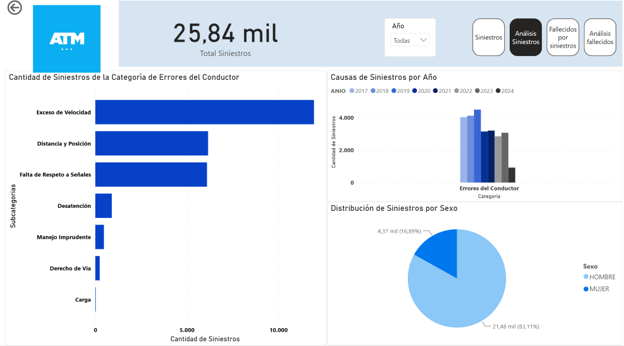

This screenshot's page, from the dashboard's own definition file:
{"tool":"powerbi","page":{"name":"Análisis Siniestros","canvas":[1280,720],"ordinal":1},"visuals":[{"type":"clusteredColumnChart","title":"Causas de Siniestros por Año","fields":{"Category":["CausasAccidentes.Categoría"],"Series":["Data.ANIO"],"Y":["CountNonNull(Data.ANIO)"]},"box":[667.2,150.3,613.1,272],"z":0},{"type":"barChart","title":"Cantidad de Siniestros de la Categorìa de Errores del Conductor","fields":{"Y":["CountNonNull(Data.ANIO)"],"Category":["CausasAccidentes.Subcategoría"]},"box":[0,150.3,667.2,569.5],"z":1000},{"type":"actionButton","box":[0,0,100,40],"z":2000},{"type":"shape","box":[235.7,5.5,1044.3,137.2],"z":3000},{"type":"pageNavigator","box":[968.5,42.8,299.6,78.3],"z":4000},{"type":"pieChart","fields":{"Category":["Data.SEXO"],"Y":["CountNonNull(Data.SEXO)"]},"box":[667.2,422.3,613.1,297.5],"z":5000},{"type":"card","fields":{"Values":["CountNonNull(Data.ANIO)"]},"box":[297.5,7.5,318.6,136.7],"z":6000},{"type":"slicer","fields":{"Values":["Data.ANIO"]},"box":[785.9,42.1,106.7,79.6],"z":7000},{"type":"image","box":[10,10,236,150],"z":8000}]}

Visuals, with their boxes in screenshot pixels (x1, y1, x2, y2), scaled from the page's 1280x720 canvas onto the 624x346 screenshot:
"Causas de Siniestros por Año" clusteredColumnChart: BBox(325, 72, 623, 203)
"Cantidad de Siniestros de la Categorìa de Errores del Conductor" barChart: BBox(0, 72, 325, 345)
actionButton: BBox(0, 0, 49, 19)
shape: BBox(115, 3, 623, 69)
pageNavigator: BBox(472, 21, 618, 58)
pieChart - Data.SEXO x CountNonNull(Data.SEXO): BBox(325, 203, 623, 345)
card - CountNonNull(Data.ANIO): BBox(145, 4, 300, 69)
slicer - Data.ANIO: BBox(383, 20, 435, 58)
image: BBox(5, 5, 120, 77)
